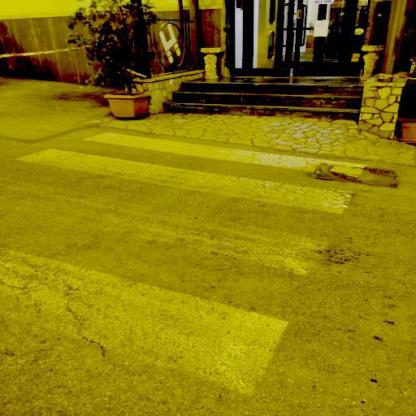crosswalk: (11, 128, 376, 221)
